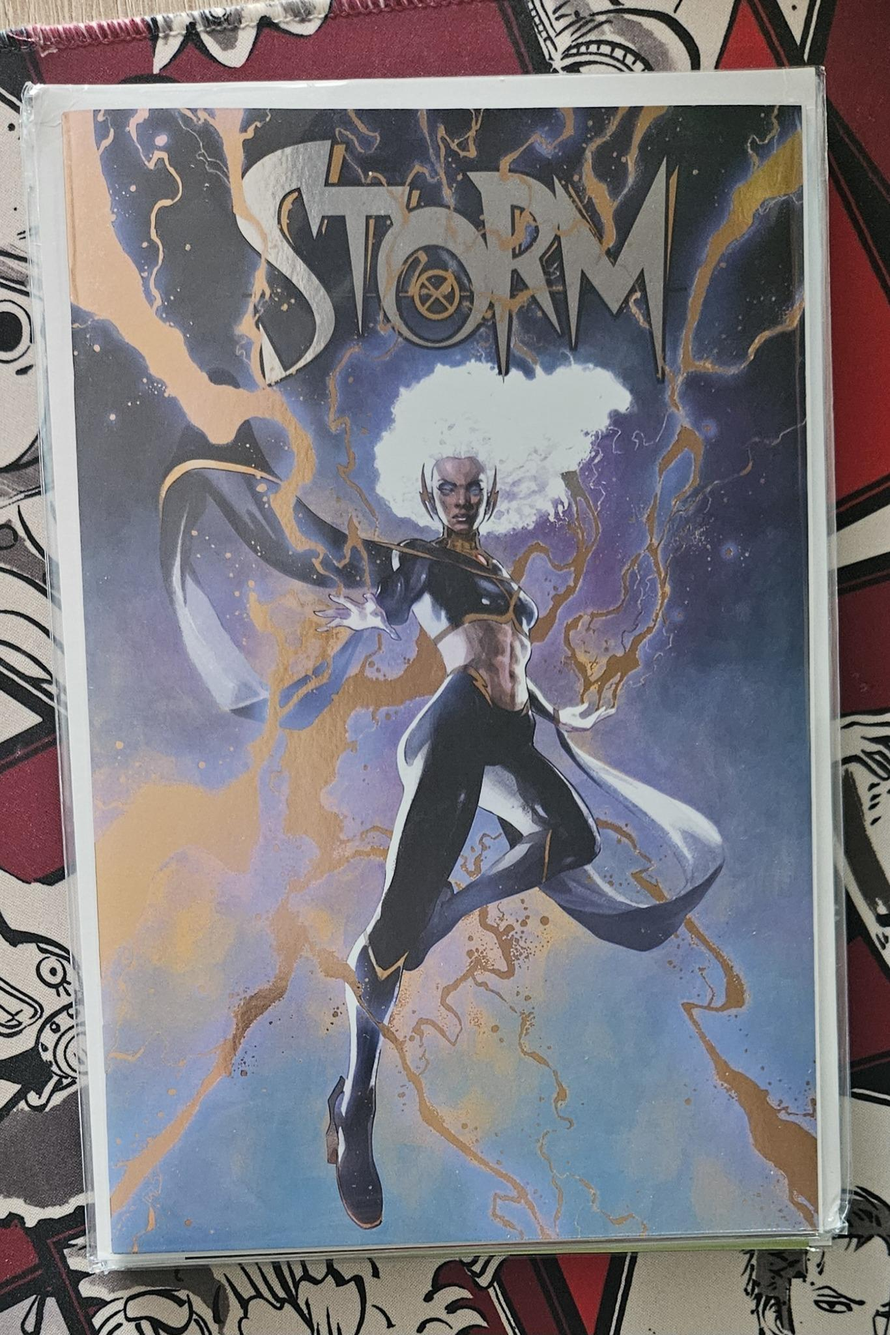comic: (30, 68, 853, 1265)
